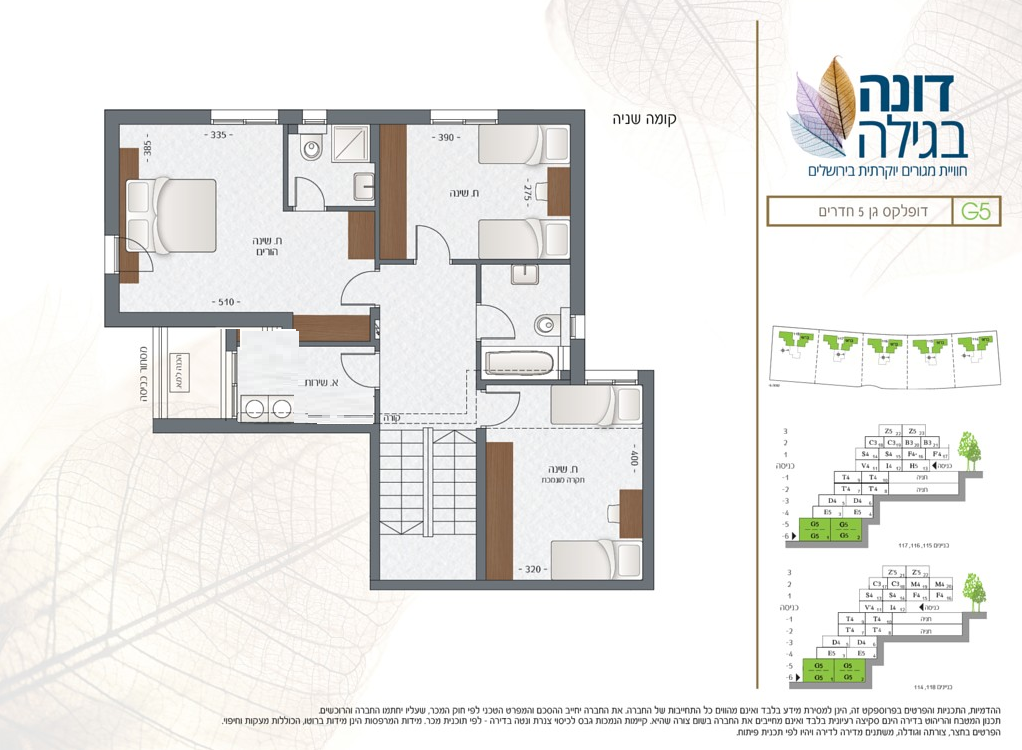door: (413, 221, 453, 257), (291, 171, 331, 207), (338, 351, 372, 393), (489, 387, 523, 429), (485, 300, 519, 342), (339, 269, 373, 311)
wall: (105, 311, 293, 327), (570, 110, 584, 314), (643, 371, 654, 590), (381, 581, 644, 590), (370, 426, 381, 589), (476, 429, 487, 592), (105, 110, 119, 236), (119, 110, 209, 126), (329, 110, 429, 124), (497, 110, 569, 126)
window: (585, 368, 639, 387), (225, 352, 239, 419), (209, 111, 278, 124), (428, 110, 497, 123), (103, 234, 122, 272), (301, 110, 327, 125)
